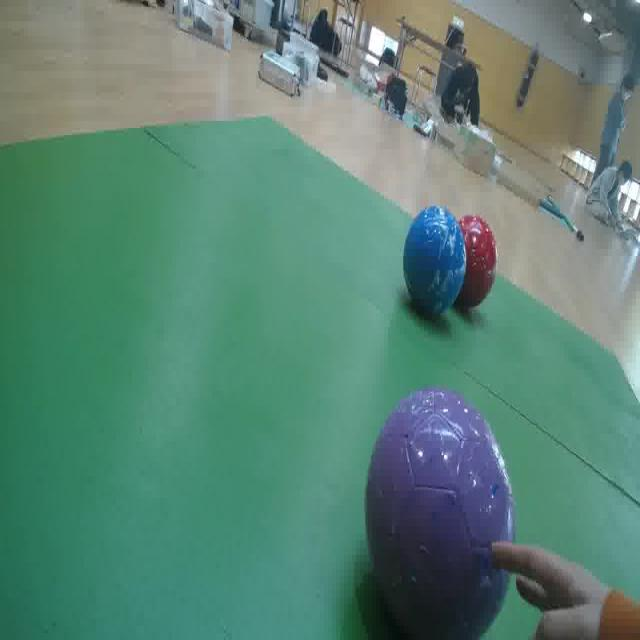blue_ball: (405, 205, 466, 319)
purple_ball: (366, 386, 516, 640)
red_ball: (449, 216, 498, 309)
